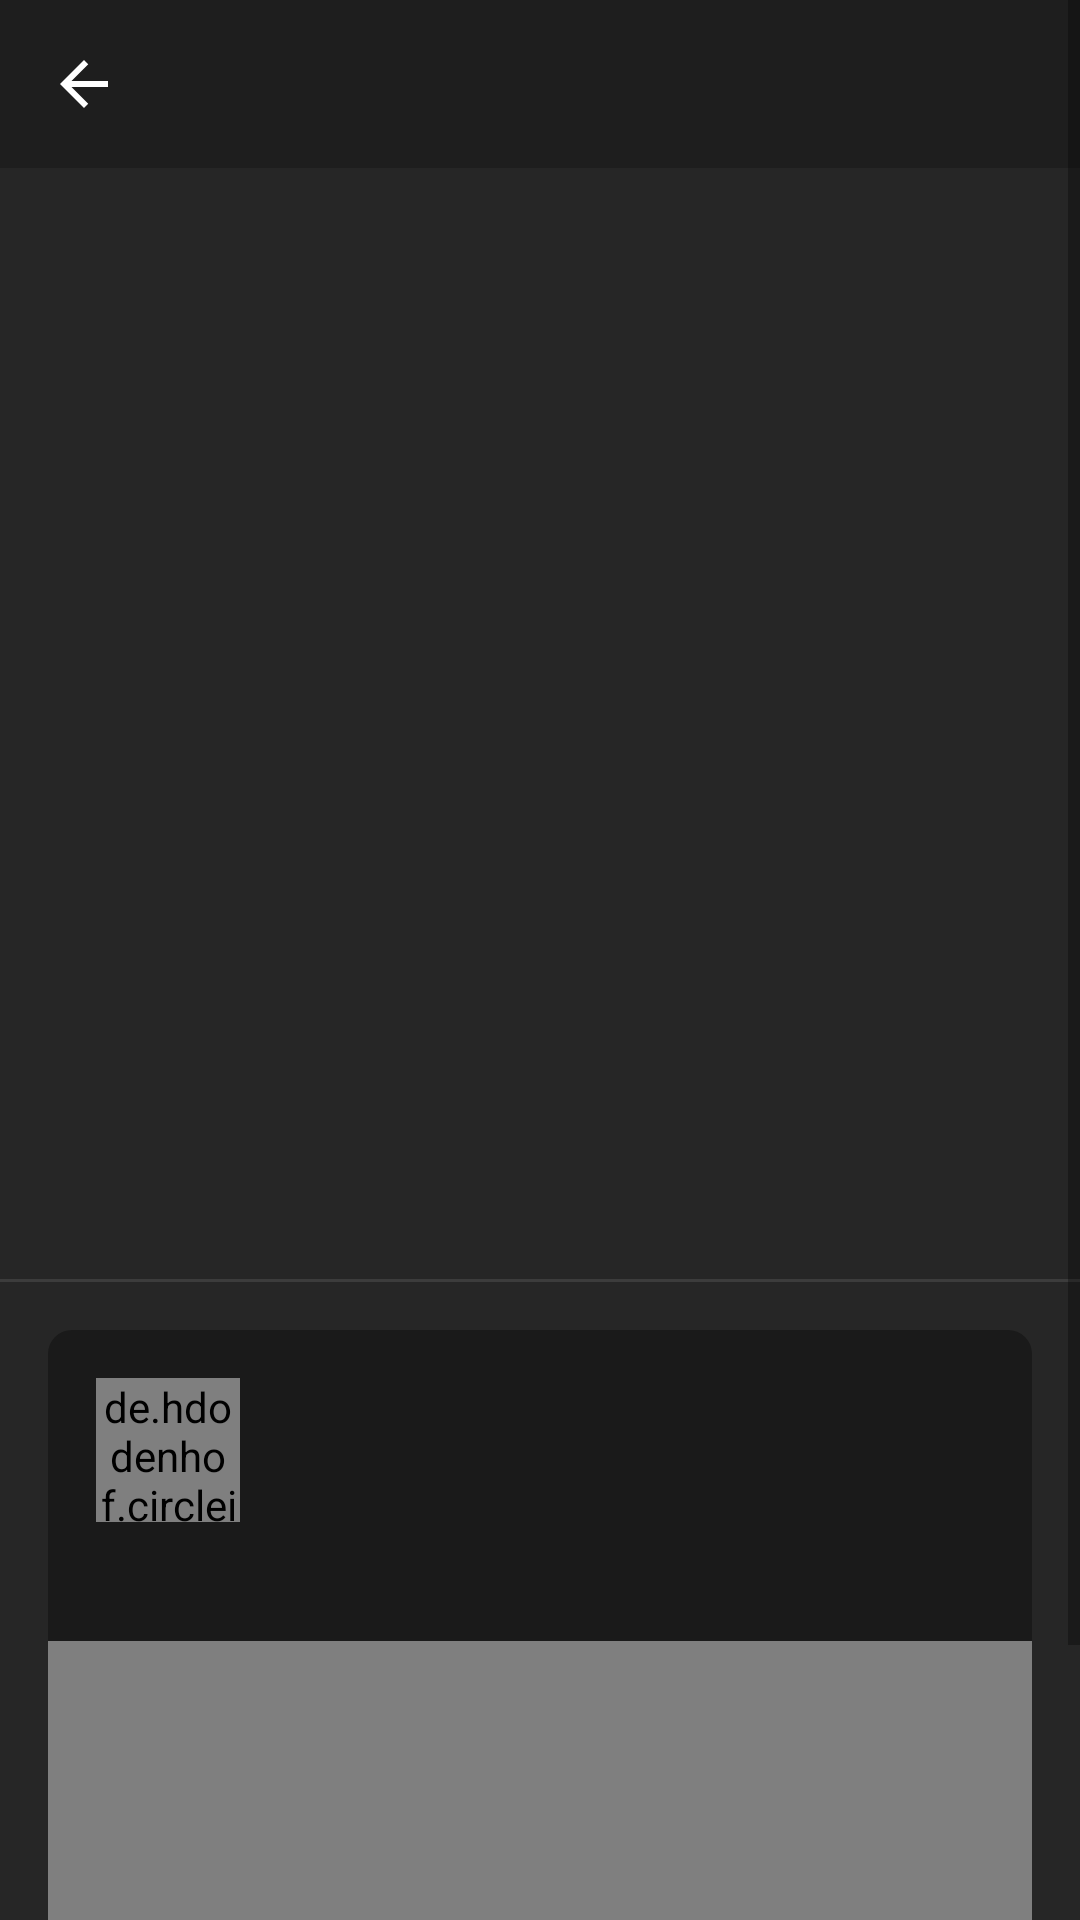

Locate icon controls on the screen. Image size 1080w x 1920h, boxes as bbox(x1, y1, x2, y2).
back: bbox(60, 60, 108, 108)
